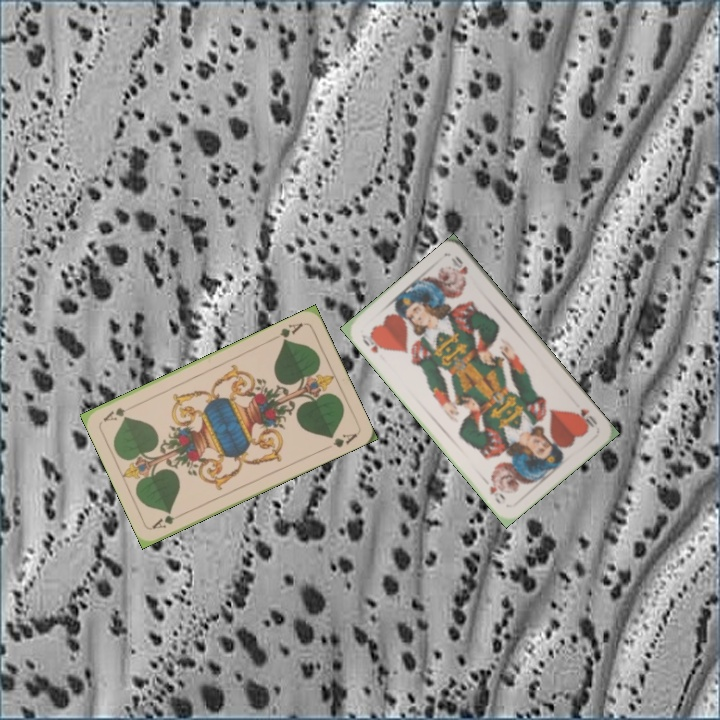GA: (269, 318, 306, 345), (148, 509, 177, 532)
HO: (357, 329, 388, 356), (573, 405, 600, 430)
